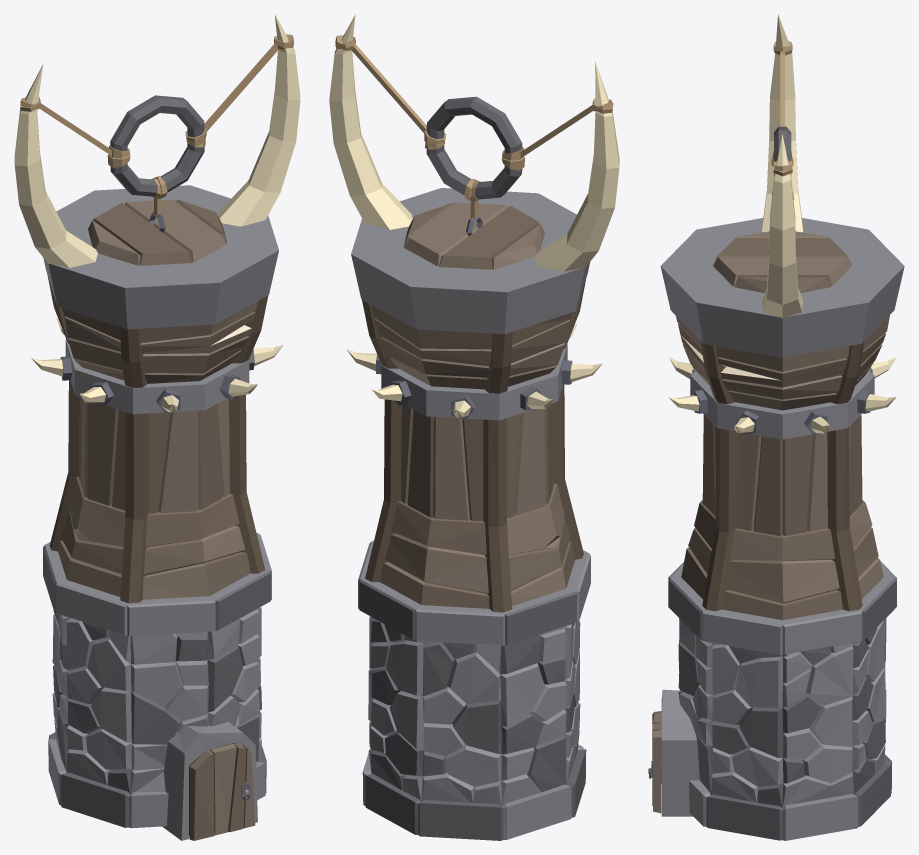
File: _Fire_tower_LVL_2.fbx
3 views of the same model, side by side, from view 1: azimuth 30°, elevation 25°; view 2: azimuth 150°, elevation 25°; view 3: azimuth 270°, elevation 25° (orthographic). The views are drawn at different scales.
Parts seen in each view (by area): view 1: Fire_tower_LVL_2; view 2: Fire_tower_LVL_2; view 3: Fire_tower_LVL_2.
Boxes of the visible parts, bbox=[...] form: Fire_tower_LVL_2: bbox=[14, 14, 300, 840]; Fire_tower_LVL_2: bbox=[329, 14, 619, 840]; Fire_tower_LVL_2: bbox=[648, 14, 904, 840].
Bounding box in the file's own units: 793 × 1998 × 636.
